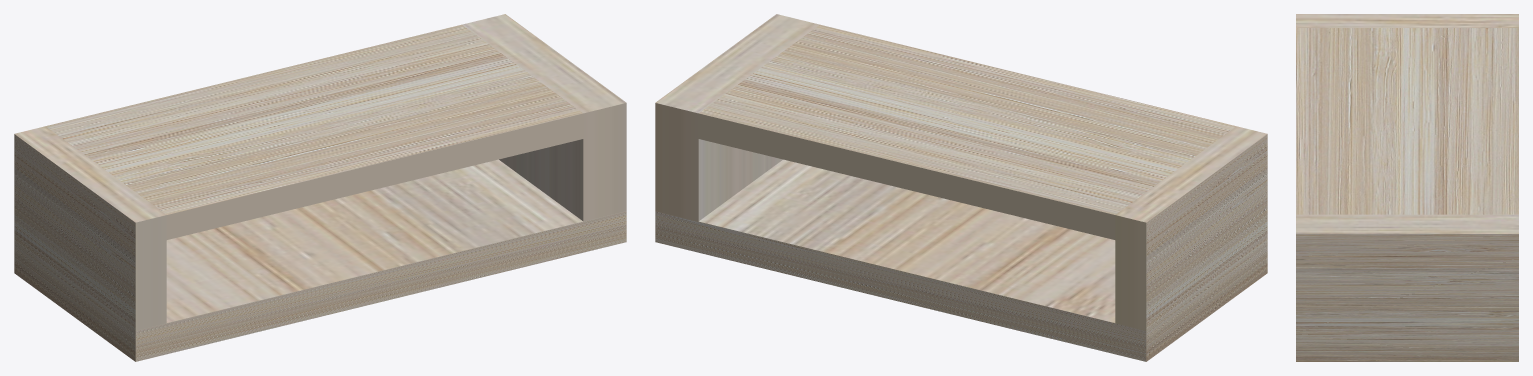
File: table.obj
The picture shows the model from 3 angles, left to right: view 1: azimuth 30°, elevation 25°; view 2: azimuth 150°, elevation 25°; view 3: azimuth 270°, elevation 25°; orthographic projection. The views are drawn at different scales.
Parts seen in each view (by area): view 1: Cube.005_Cube.006; view 2: Cube.005_Cube.006; view 3: Cube.005_Cube.006.
Part boxes in pixels (bbox=[...]): Cube.005_Cube.006: bbox=[14, 14, 626, 361]; Cube.005_Cube.006: bbox=[655, 14, 1267, 361]; Cube.005_Cube.006: bbox=[1296, 14, 1518, 361].
Bounding box in the file's own units: 5.31 × 1.44 × 2.27.
1 material, 1 textured.
